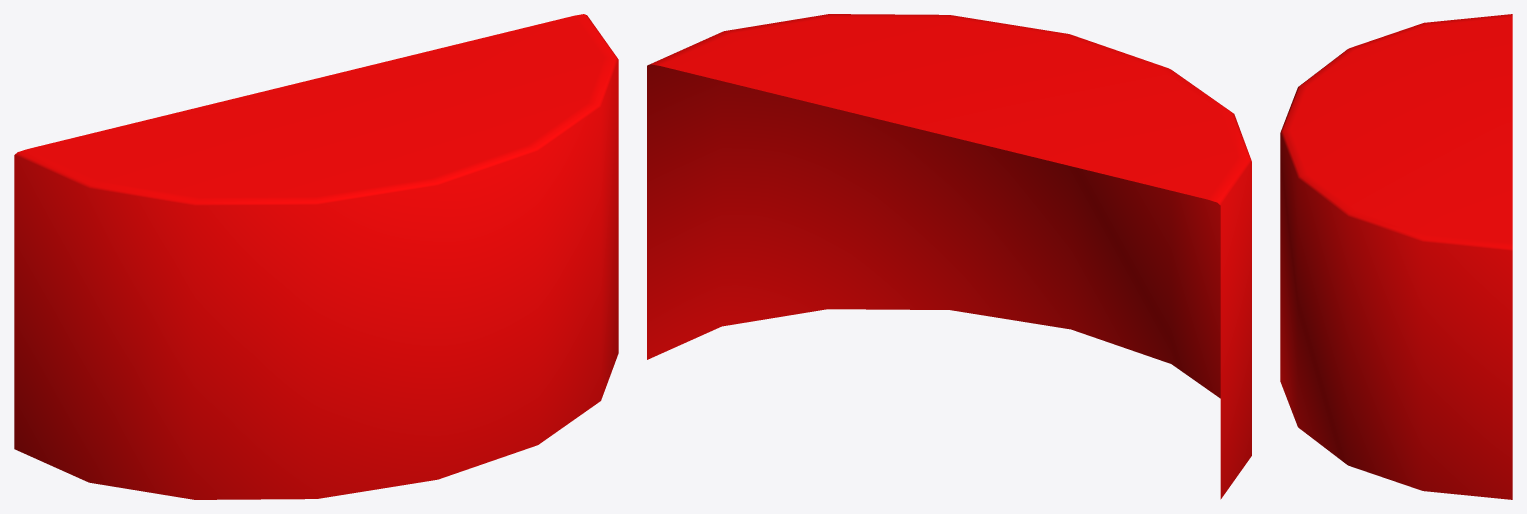
Rendered from part_3_props_mesh_04.fbx.
3 renders of one model, left to right at view 1: azimuth 30°, elevation 25°; view 2: azimuth 150°, elevation 25°; view 3: azimuth 270°, elevation 25°, orthographic. The views are drawn at different scales.
Visible parts, largest first — view 1: part_3_props_mesh_04; view 2: part_3_props_mesh_04; view 3: part_3_props_mesh_04.
Part boxes in pixels (x1=…): part_3_props_mesh_04: x1=14, y1=14, x2=618, y2=499; part_3_props_mesh_04: x1=647, y1=14, x2=1251, y2=499; part_3_props_mesh_04: x1=1280, y1=14, x2=1512, y2=499.
Size of the model in its own units: 9.42 by 4.67 by 3.91.
